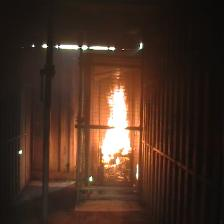fire: (102, 68, 132, 169)
